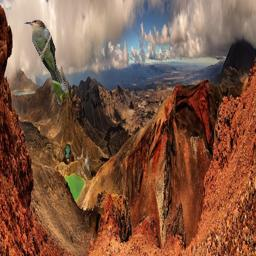Cuckoo: (24, 19, 69, 105)
